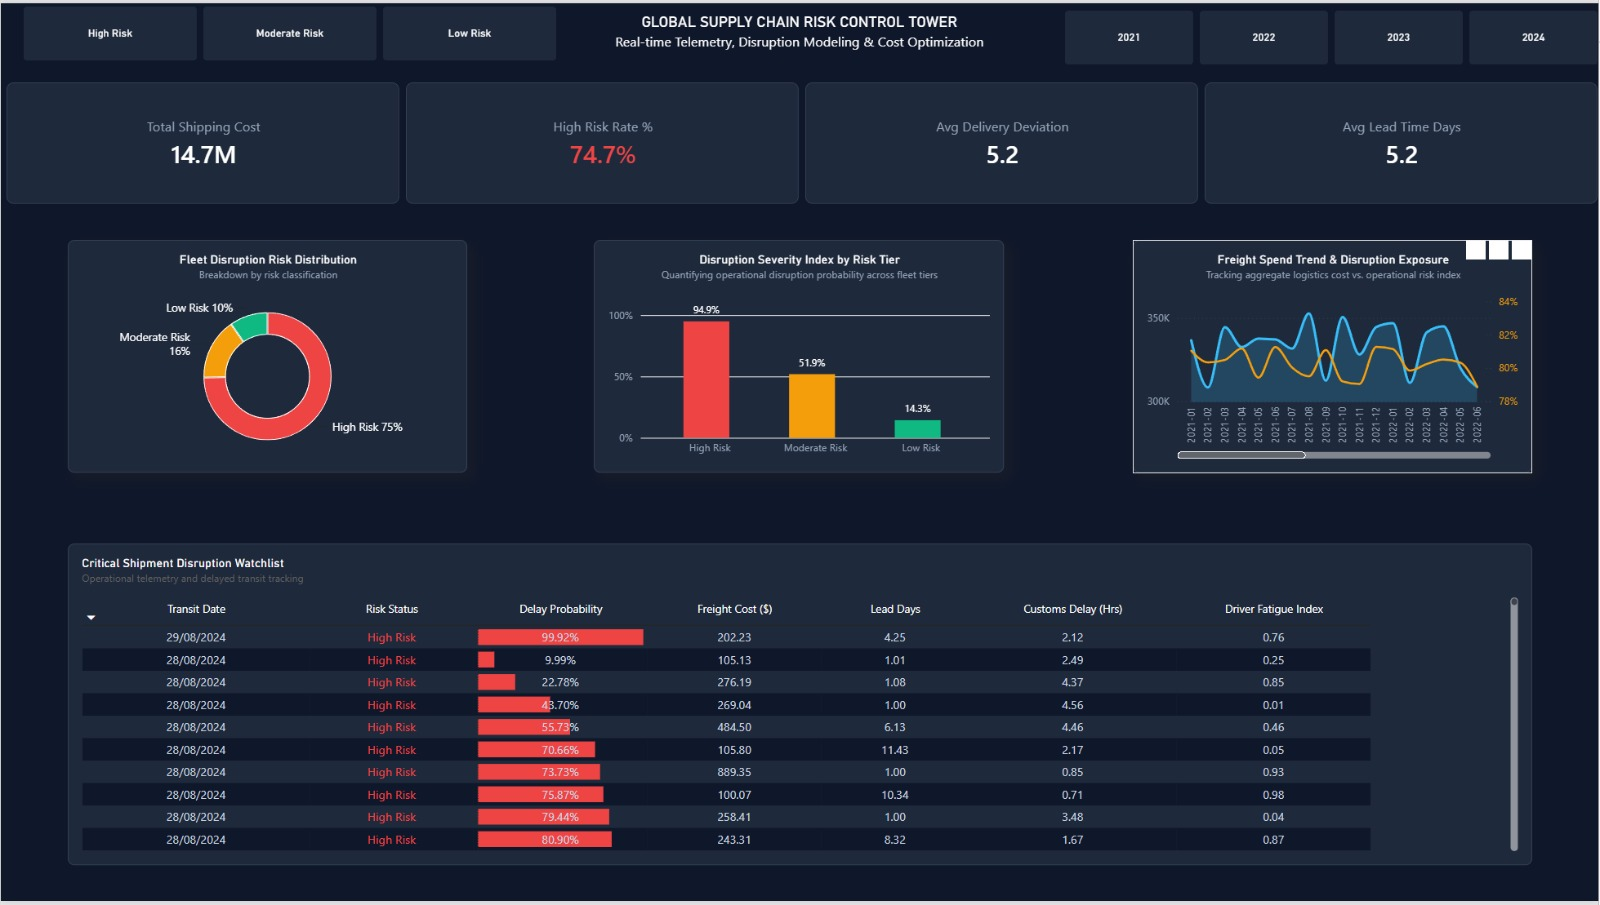

Layout of this report page (visuals, bound fields, positions):
{"tool":"powerbi","page":{"name":"Page 1","canvas":[1920,1080],"ordinal":0},"visuals":[{"type":"shape","title":"GLOBAL SUPPLY CHAIN RISK CONTROL TOWER","box":[320,12,1280,60],"z":0},{"type":"advancedSlicerVisual","fields":{"Values":["Dim_Date.Year"]},"box":[1279,9,642,65.8],"z":1000},{"type":"advancedSlicerVisual","fields":{"Values":["Dim_Risk.risk_classification"]},"box":[27,4,642,65.8],"z":2000},{"type":"cardVisual","fields":{"Data":["_Measures.Total Shipping Cost","_Measures.High Risk Rate %","_Measures.Avg Delivery Deviation","_Measures.Avg Lead Time Days"]},"box":[7,95,1913,146],"z":3000},{"type":"donutChart","title":"Fleet Disruption Risk Distribution","fields":{"Category":["Dim_Risk.risk_classification"],"Y":["_Measures.Total Shipments"]},"box":[80,285,480,280],"z":4000},{"type":"clusteredColumnChart","title":"Disruption Severity Index by Risk Tier","fields":{"Category":["Dim_Risk.risk_classification"],"Y":["_Measures.Avg Disruption Likelihood"]},"box":[713,285,493,280],"z":5000},{"type":"areaChart","title":"Freight Spend Trend & Disruption Exposure","fields":{"Category":["Dim_Date.YearMonth"],"Y":["_Measures.Total Shipping Cost"],"Y2":["_Measures.Avg Disruption Likelihood"]},"box":[1360,285,480,280],"z":6000},{"type":"tableEx","title":"Critical Shipment Disruption Watchlist","fields":{"Values":["dynamic_supply_chain_logistics_.timestamp","Dim_Risk.risk_classification","dynamic_supply_chain_logistics_.delay_probability","dynamic_supply_chain_logistics_.shipping_costs","dynamic_supply_chain_logistics_.lead_time_days","dynamic_supply_chain_logistics_.customs_clearance_time","dynamic_supply_chain_logistics_.fatigue_monitoring_score"]},"box":[80,650,1760,387],"z":7000}]}

Visuals, with their boxes in screenshot pixels (x1, y1, x2, y2), scaled from the page's 1920x1080 canvas onto the 1600x905 screenshot:
"GLOBAL SUPPLY CHAIN RISK CONTROL TOWER" shape: left=267, top=10, right=1333, bottom=60
advancedSlicerVisual - Dim_Date.Year: left=1066, top=8, right=1599, bottom=63
advancedSlicerVisual - Dim_Risk.risk_classification: left=22, top=3, right=558, bottom=58
cardVisual - _Measures.Total Shipping Cost x _Measures.High Risk Rate %: left=6, top=80, right=1599, bottom=202
"Fleet Disruption Risk Distribution" donutChart: left=67, top=239, right=467, bottom=473
"Disruption Severity Index by Risk Tier" clusteredColumnChart: left=594, top=239, right=1005, bottom=473
"Freight Spend Trend & Disruption Exposure" areaChart: left=1133, top=239, right=1533, bottom=473
"Critical Shipment Disruption Watchlist" tableEx: left=67, top=545, right=1533, bottom=869
